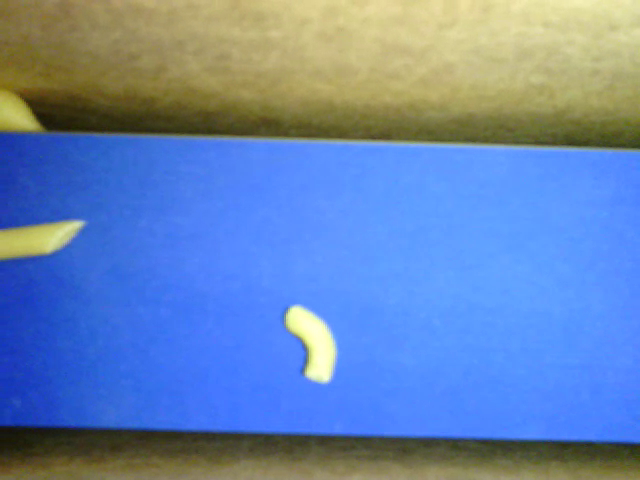elbow: (285, 304, 337, 384)
penne: (1, 220, 87, 257)
